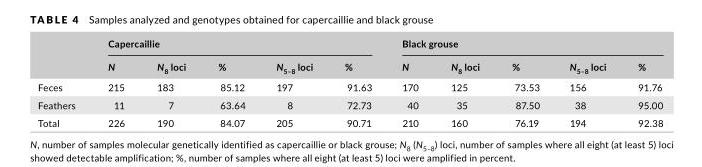table: (36, 36, 662, 128)
table column: (553, 36, 621, 128), (260, 36, 327, 128), (140, 36, 201, 128), (434, 36, 495, 128), (201, 36, 260, 128), (327, 36, 386, 128), (495, 36, 553, 128), (36, 36, 90, 128), (90, 36, 140, 128), (386, 36, 434, 128), (621, 36, 662, 128)
table column header: (36, 36, 662, 77)
table row: (36, 54, 662, 77), (36, 36, 662, 54), (36, 77, 662, 95), (36, 95, 662, 113), (36, 113, 662, 128)
table spanning cell: (90, 36, 386, 54), (386, 36, 662, 54)
